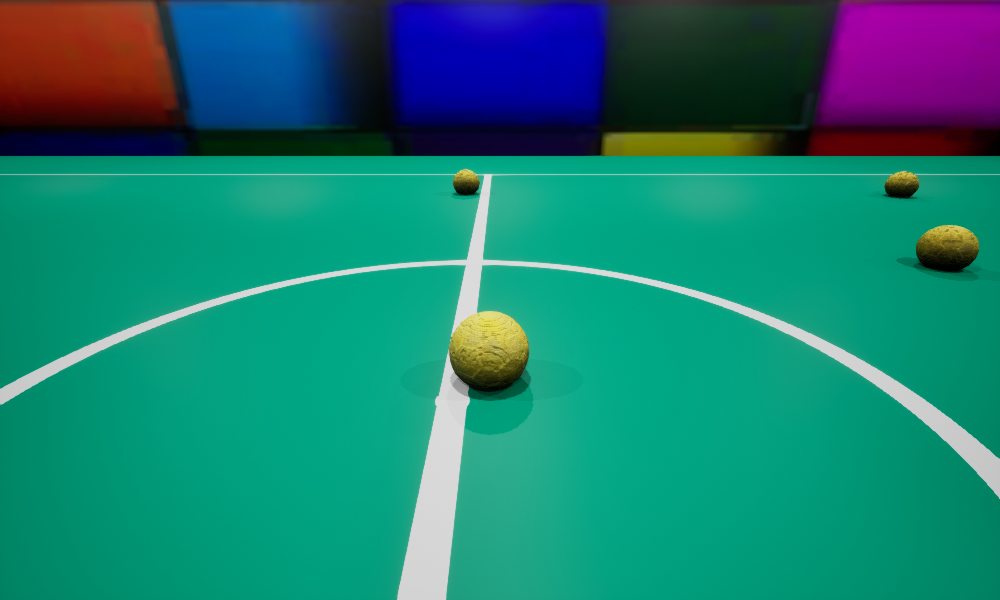b: (449, 311, 528, 391), (916, 225, 978, 270), (884, 171, 918, 197), (453, 169, 479, 194)
